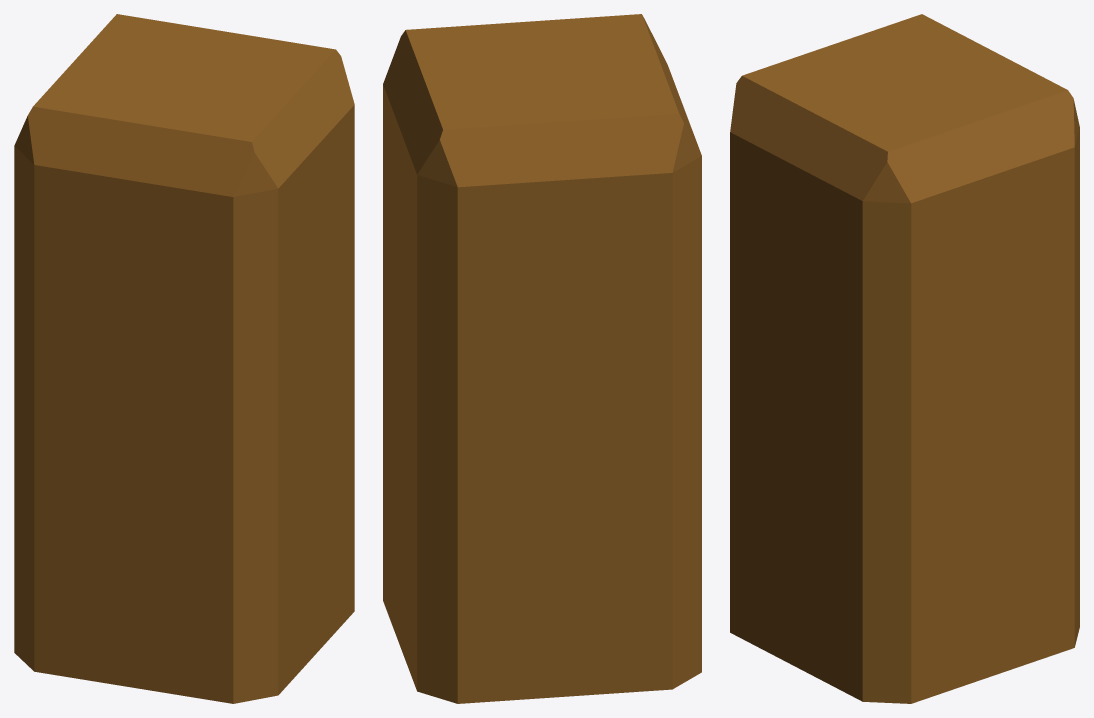
Rendered from cube_mountain.glb.
3 renders of one model, left to right at view 1: azimuth 30°, elevation 25°; view 2: azimuth 150°, elevation 25°; view 3: azimuth 270°, elevation 25°, orthographic. The views are drawn at different scales.
Parts seen in each view (by area): view 1: Cube rock.007; view 2: Cube rock.007; view 3: Cube rock.007.
Boxes of the visible parts, <box> form: Cube rock.007: <box>14,14,354,703</box>; Cube rock.007: <box>383,14,701,703</box>; Cube rock.007: <box>730,14,1079,703</box>.
Bounding box in the file's own units: 58.92 × 102 × 58.92.
